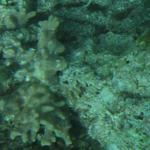dead: (1, 3, 144, 145)
